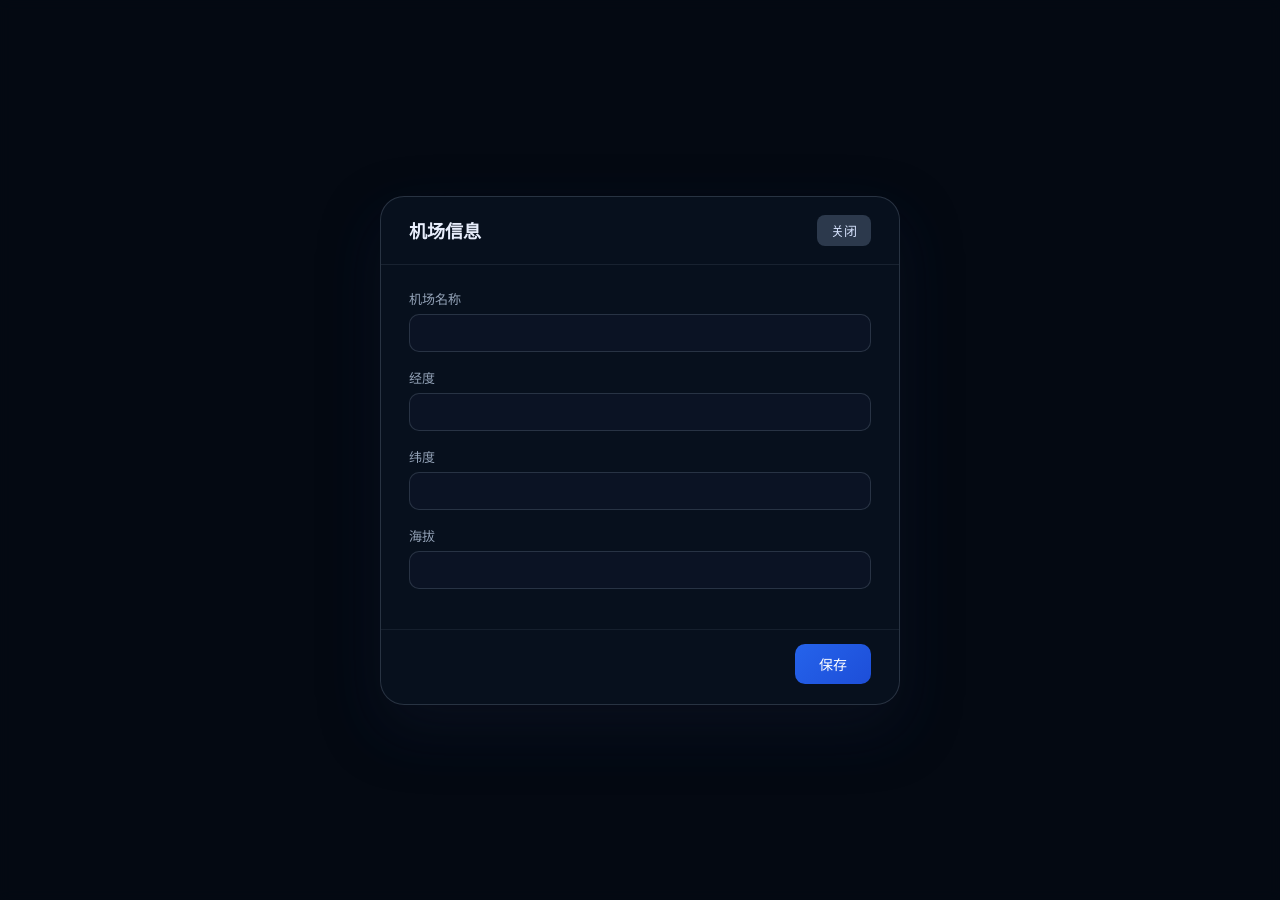
AirportFormDialog › requires airport name before save
This screenshot has width=1280, height=900.
Click the button "保存". click: click(833, 664)
box: [795,644,871,684]
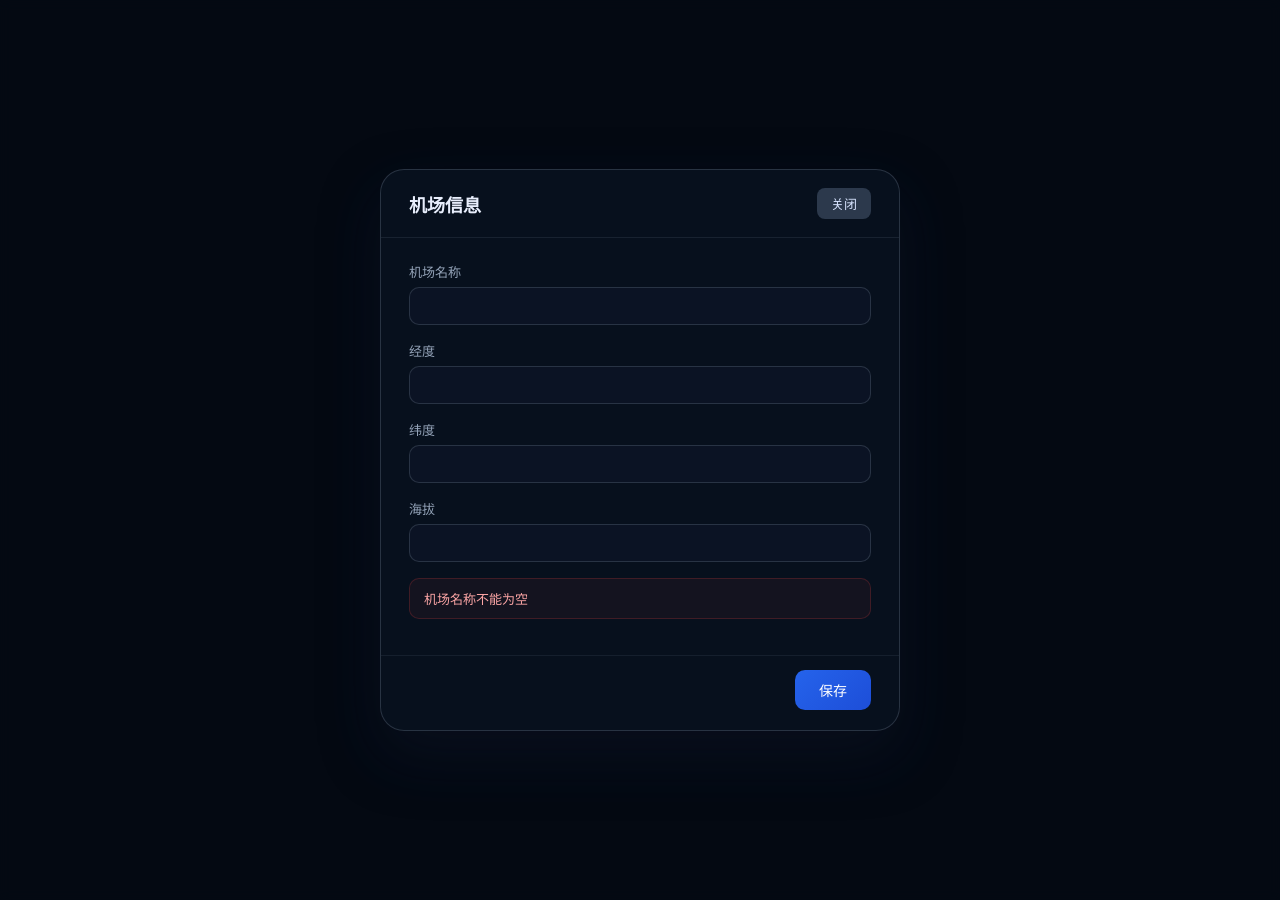
Expected: the text "机场名称不能为空" is shown, [409,578,871,619]
